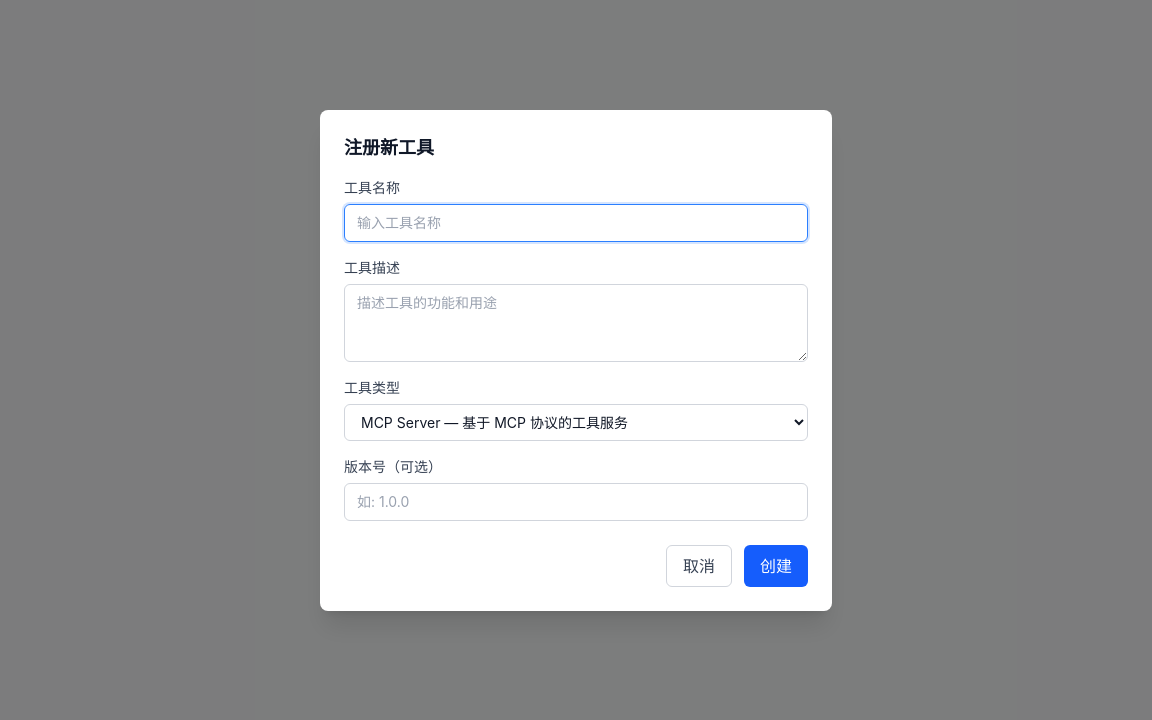
ToolRegisterDialog › 应该在提交失败时显示 API 错误信息
Step 1. Type "新工具" into the field labelled "工具名称" → point(576, 222), box [344,204,808,242]
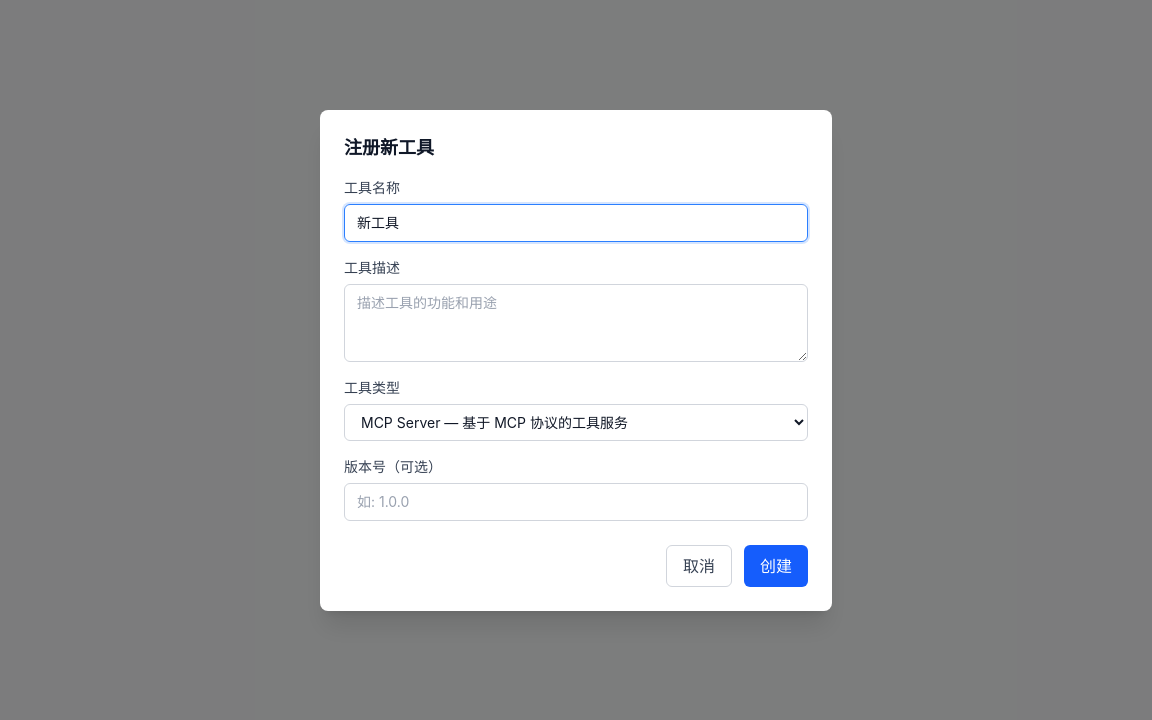
Step 2. Type "新工具描述" into the text box labelled "工具描述" → point(576, 322), box [344,284,808,362]
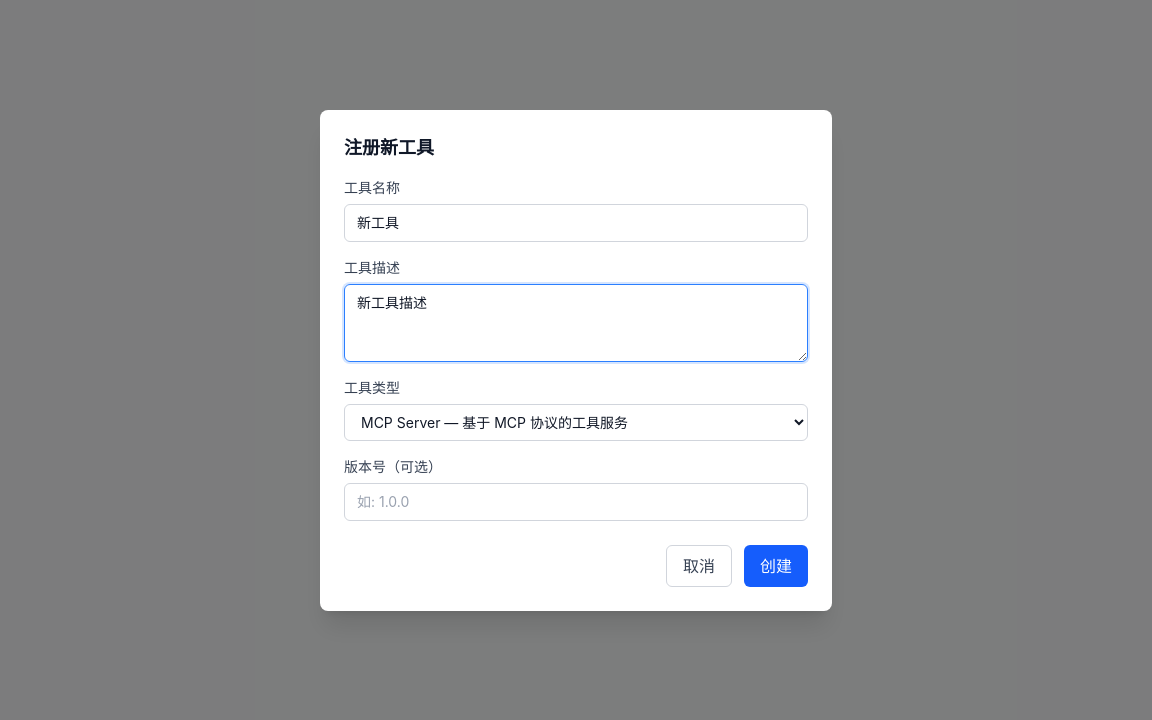
Step 3. Click the button "创建" → point(776, 566), box [744,544,808,586]
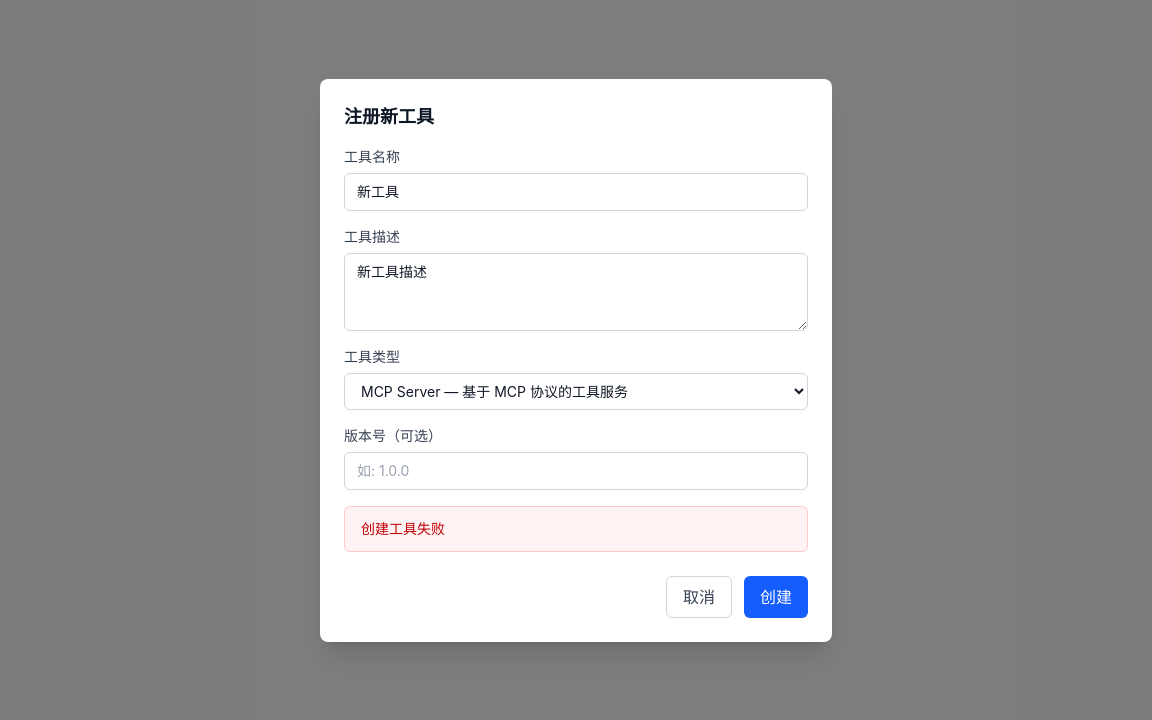
expect the message reads "创建工具失败": met, box [361,520,445,536]
